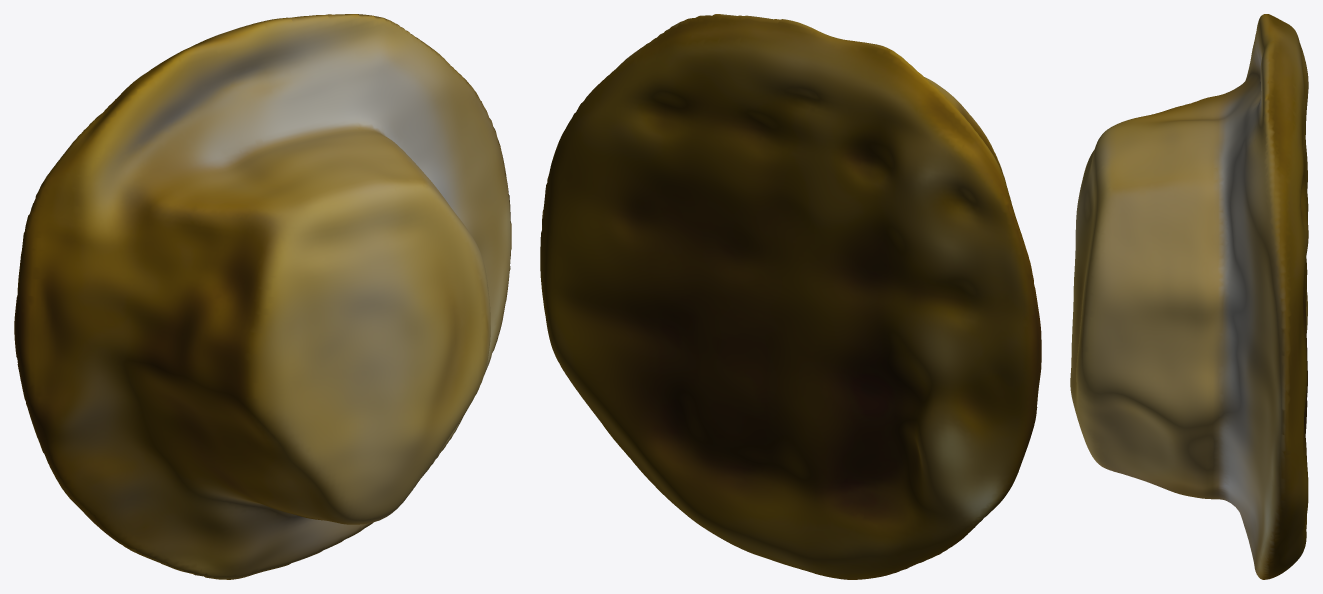
File: hat.glb
The picture shows the model from 3 angles, left to right: view 1: azimuth 30°, elevation 25°; view 2: azimuth 150°, elevation 25°; view 3: azimuth 270°, elevation 25°; orthographic projection. The views are drawn at different scales.
Size of the model in its own units: 0.9485 by 0.9988 by 0.4235.
